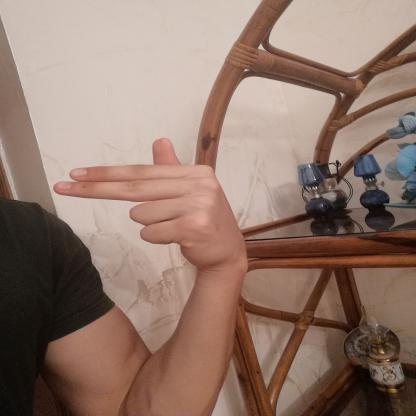GHAYN: (41, 129, 252, 278)
